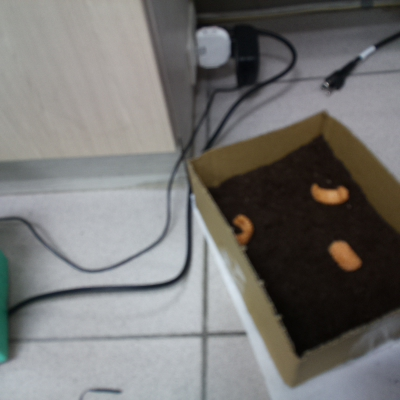eggs: (326, 232, 366, 279), (306, 176, 354, 207), (226, 209, 255, 248)
